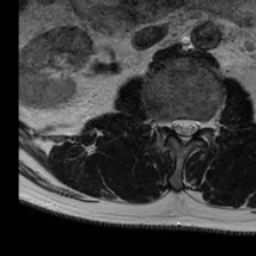CCS_normal: (179, 110, 186, 152)
LFS_stenosis: (198, 112, 210, 136)
LLS_normal: (188, 112, 198, 143)
RFS_stenosis: (160, 111, 171, 138)
RLS_normal: (171, 111, 179, 139)
